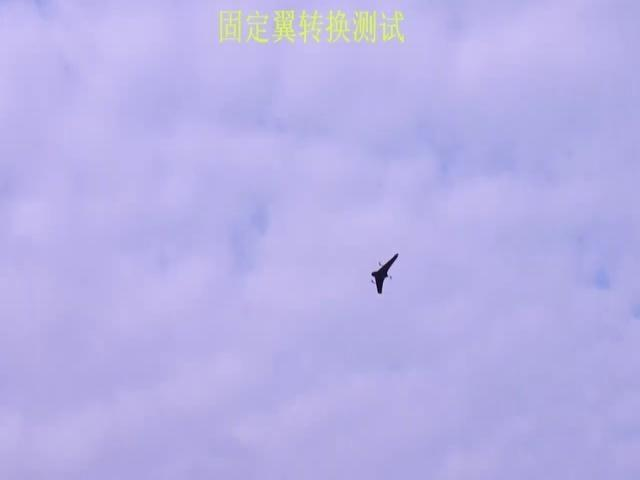Airplane: (370, 253, 397, 294)
